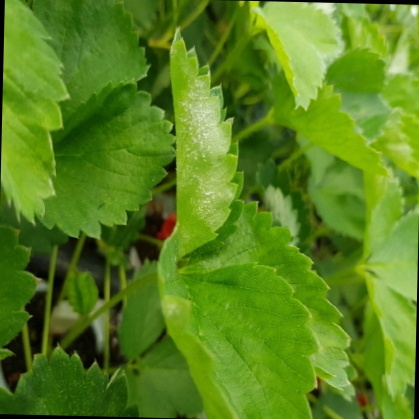Powdery_Leaf: (166, 26, 246, 263)
